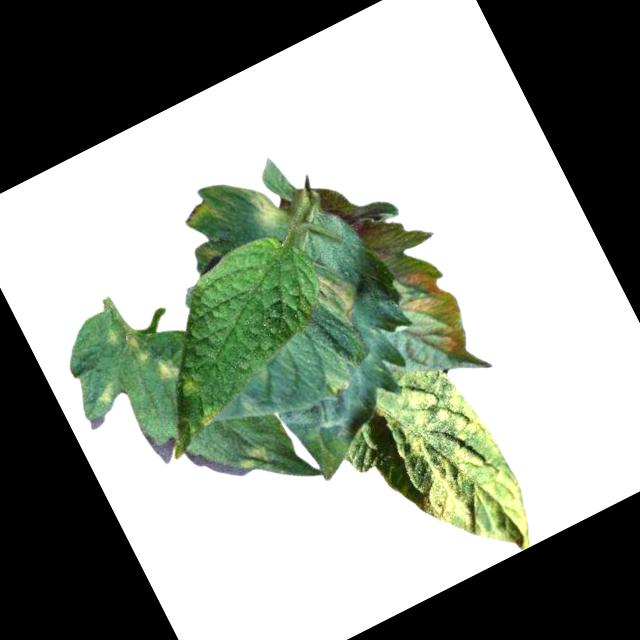Leaf_Mold: (370, 363, 547, 582), (384, 258, 483, 378), (105, 306, 182, 395), (301, 263, 364, 336), (243, 186, 290, 238), (230, 438, 274, 478), (180, 194, 219, 230), (319, 369, 352, 403), (194, 405, 224, 432), (93, 386, 117, 410)
